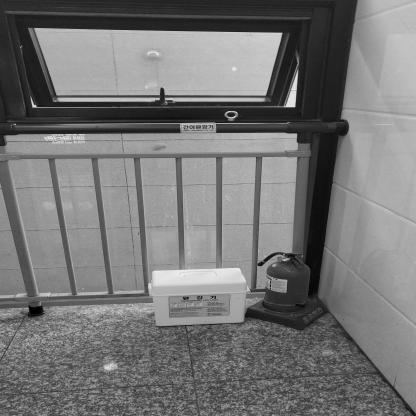DDL: (148, 268, 251, 326)
